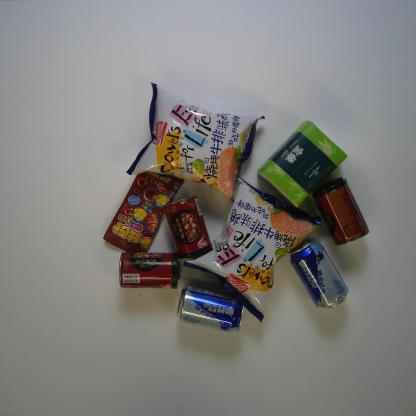Alcohol: (288, 236, 348, 312), (175, 283, 245, 334)
Candy: (102, 165, 185, 252)
Canned Food: (310, 176, 371, 248), (163, 194, 214, 264), (117, 249, 183, 292)
Puffed Food: (179, 176, 323, 320), (124, 82, 266, 204)
Tissue: (257, 120, 348, 209)
